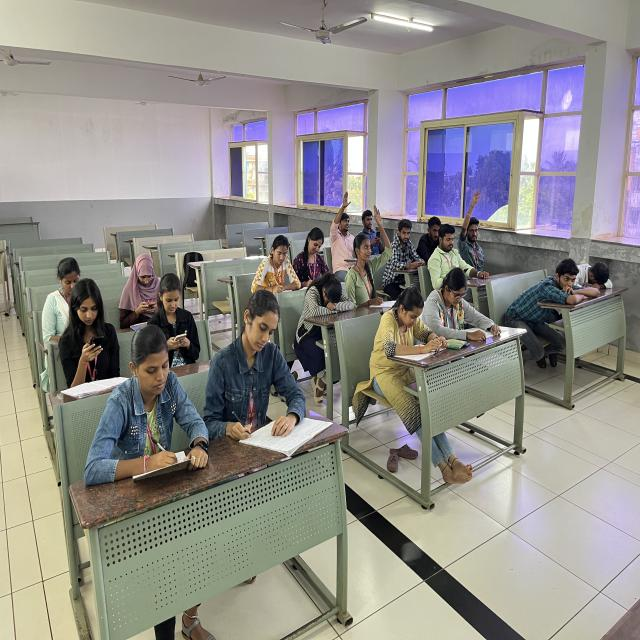Hand Rising: (336, 199, 393, 305), (323, 180, 358, 254), (462, 183, 488, 266)
Reading: (427, 270, 509, 344), (372, 278, 434, 374)
Sleeping: (298, 272, 354, 325), (578, 249, 618, 300)
Using Phone: (49, 277, 131, 393), (129, 268, 212, 369), (116, 246, 172, 334), (359, 202, 389, 252)
Writing: (205, 284, 315, 450), (101, 336, 201, 499), (251, 224, 302, 308), (291, 218, 332, 286)
